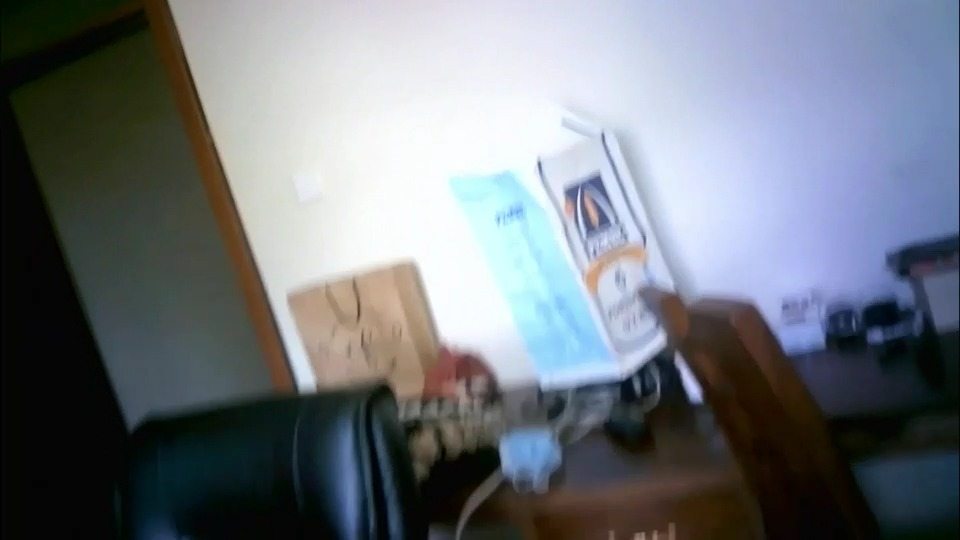wheat_flour_blue_label: (447, 106, 680, 382)
